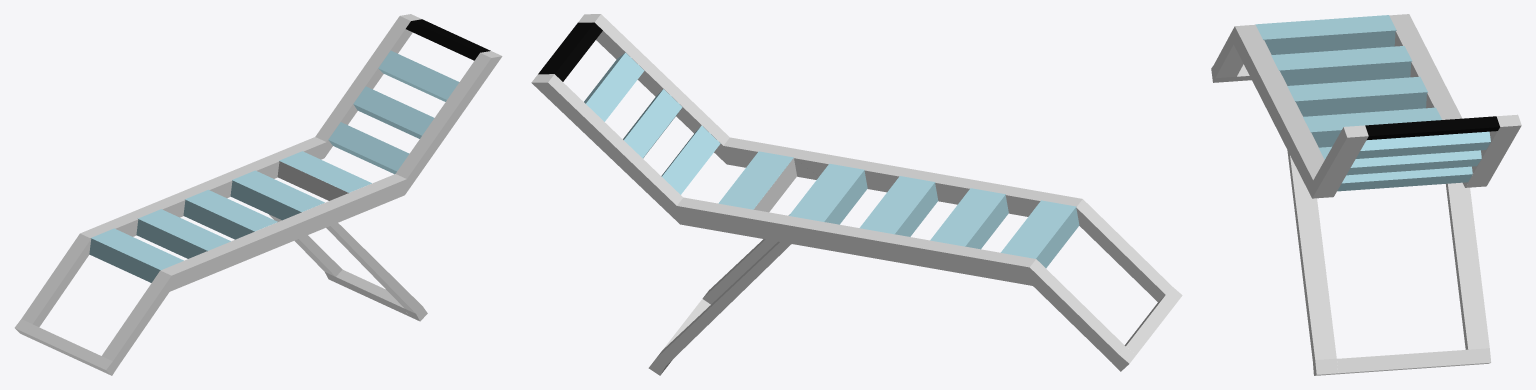
File: beach-chair.glb
3 views of the same model, side by side, from view 1: azimuth 30°, elevation 25°; view 2: azimuth 150°, elevation 25°; view 3: azimuth 270°, elevation 25° (orthographic). The views are drawn at different scales.
Parts seen in each view (by area): view 1: White-material, LB2-material; view 2: White-material, LB2-material; view 3: White-material, LB2-material.
Boxes of the visible parts, x1,y1,x2,y2 form: White-material: (14,14,502,375); LB2-material: (89,50,459,282); White-material: (531,14,1182,375); LB2-material: (584,52,1079,268); White-material: (1211,14,1521,375); LB2-material: (1255,15,1490,191).
Size of the model in its own units: 13.65 by 6.53 by 6.06.
